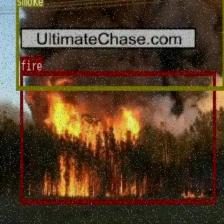smoke: (16, 0, 224, 89)
